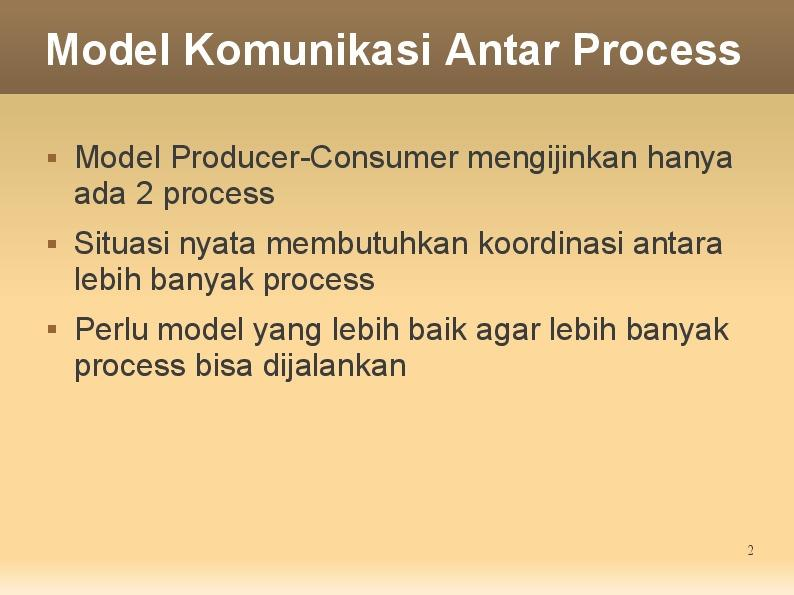paragraph: (59, 133, 787, 430)
title: (41, 1, 760, 93)
